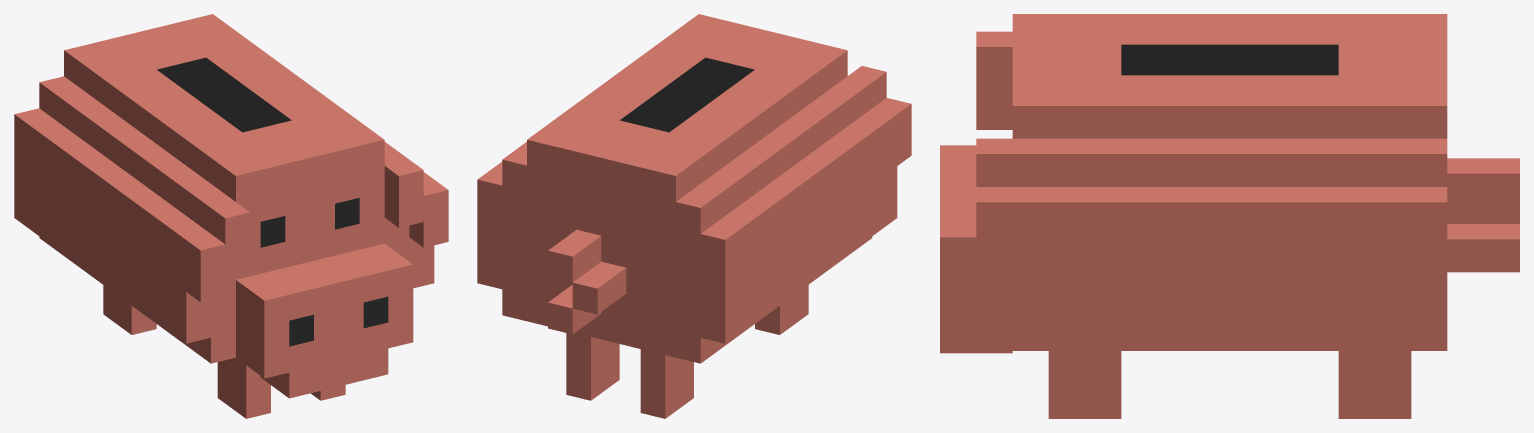
The model's file is PiggyBank.obj.
3 renders of one model, left to right at view 1: azimuth 30°, elevation 25°; view 2: azimuth 150°, elevation 25°; view 3: azimuth 270°, elevation 25°, orthographic. The views are drawn at different scales.
Visible parts, largest first — view 1: PiggyBank; view 2: PiggyBank; view 3: PiggyBank.
Part boxes in pixels (left/top/right/bottom): PiggyBank: left=14, top=14, right=448, bottom=418; PiggyBank: left=477, top=14, right=911, bottom=418; PiggyBank: left=940, top=14, right=1519, bottom=418.
Bounding box in the file's own units: 10 × 10 × 16.
Materials: 1 (1 with a texture image).
